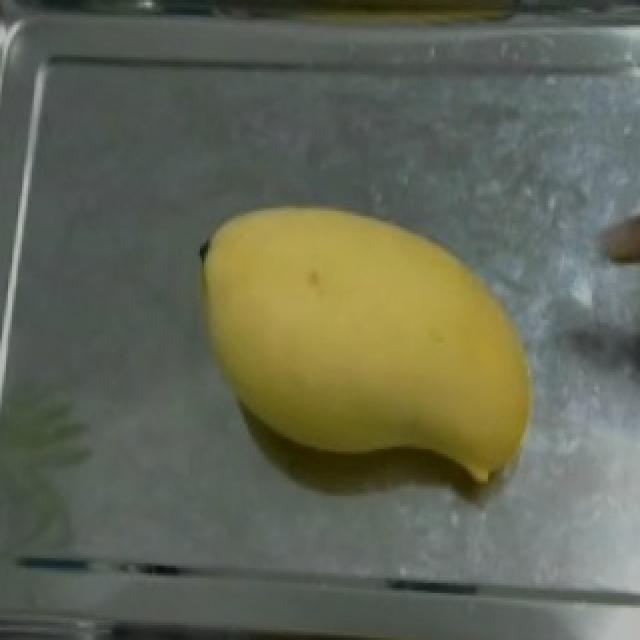fruit: (176, 176, 560, 491)
